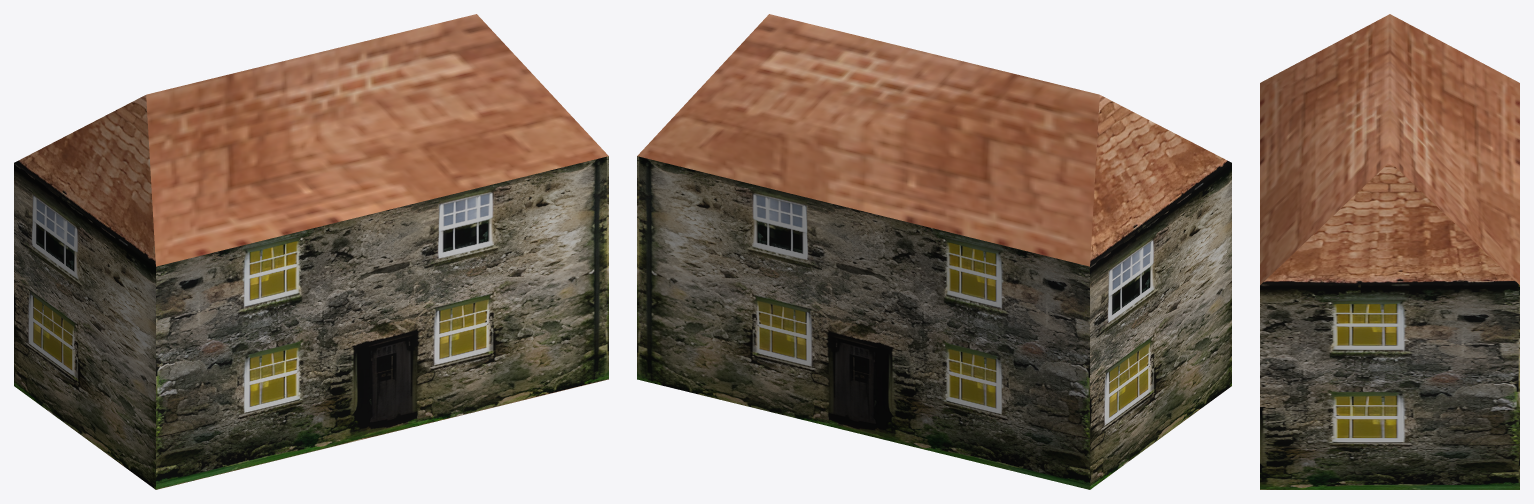
File: cottage2.gltf
The picture shows the model from 3 angles, left to right: view 1: azimuth 30°, elevation 25°; view 2: azimuth 150°, elevation 25°; view 3: azimuth 270°, elevation 25°; orthographic projection. The views are drawn at different scales.
Visible parts, largest first — view 1: cottage2_atomic0; view 2: cottage2_atomic0; view 3: cottage2_atomic0.
Part boxes in pixels (x1=…): cottage2_atomic0: x1=14, y1=14, x2=608, y2=489; cottage2_atomic0: x1=637, y1=14, x2=1231, y2=489; cottage2_atomic0: x1=1260, y1=14, x2=1519, y2=489.
Bounding box in the file's own units: 22.87 × 15.85 × 12.41.
2 materials, 2 textured.
